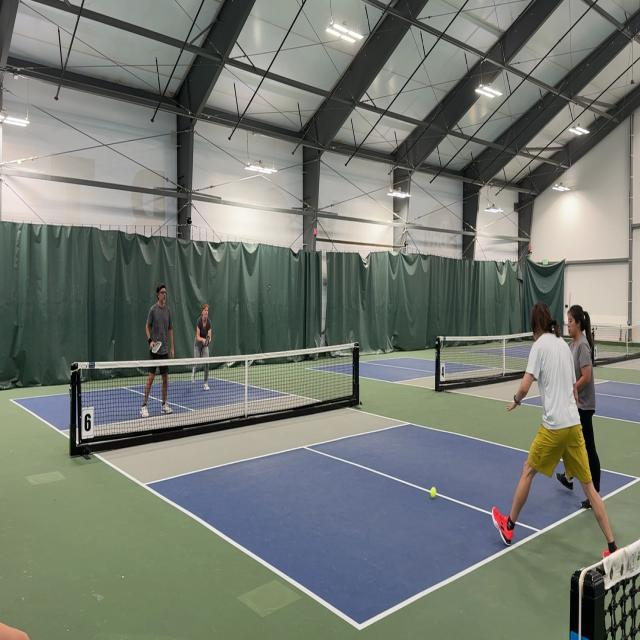ball: (430, 486, 438, 500)
